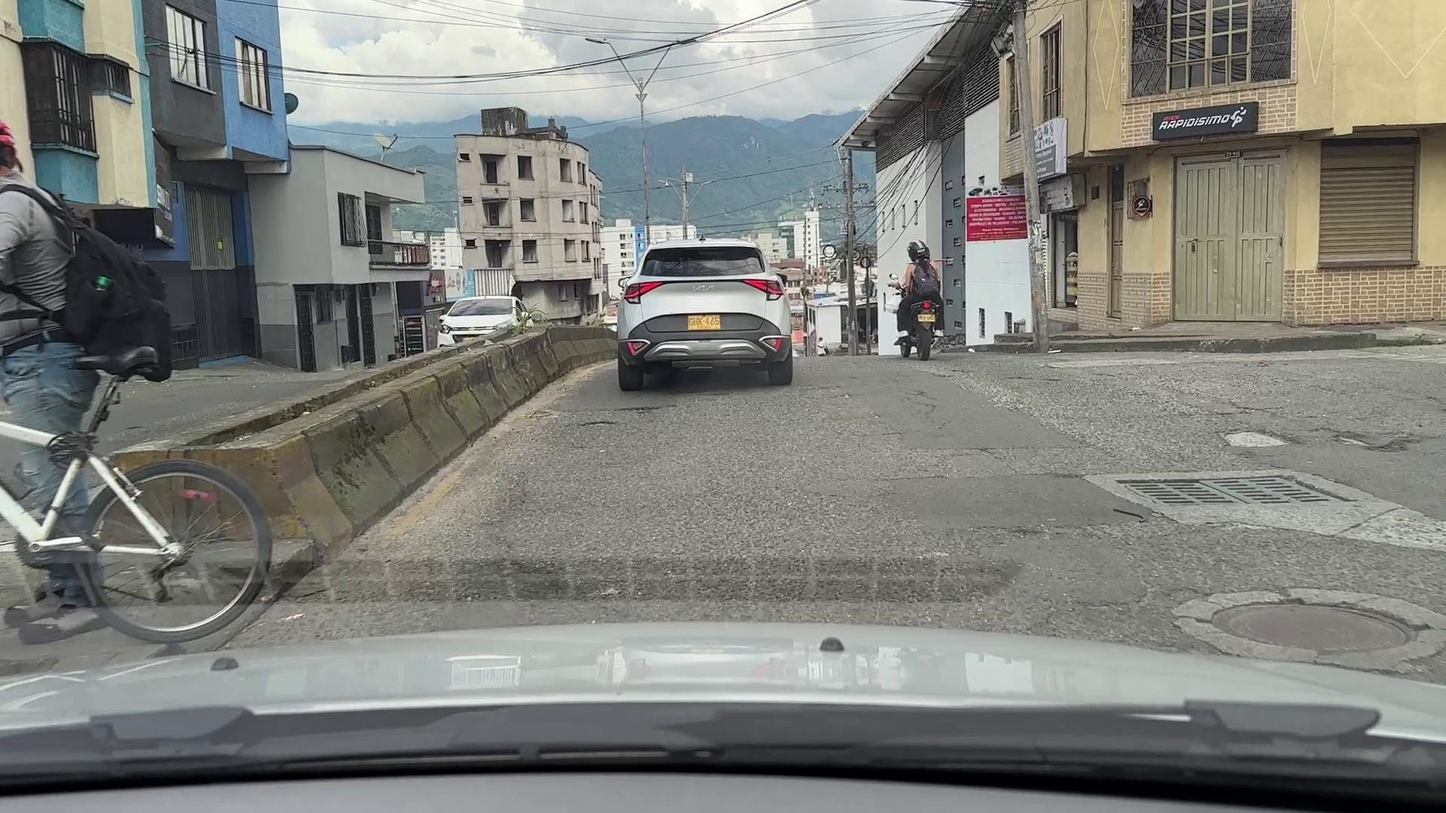bache: (1335, 434, 1420, 452), (1226, 430, 1299, 447), (618, 407, 664, 411), (582, 422, 612, 426)
registro: (1212, 603, 1417, 654)
rejilla: (1116, 475, 1347, 505)
